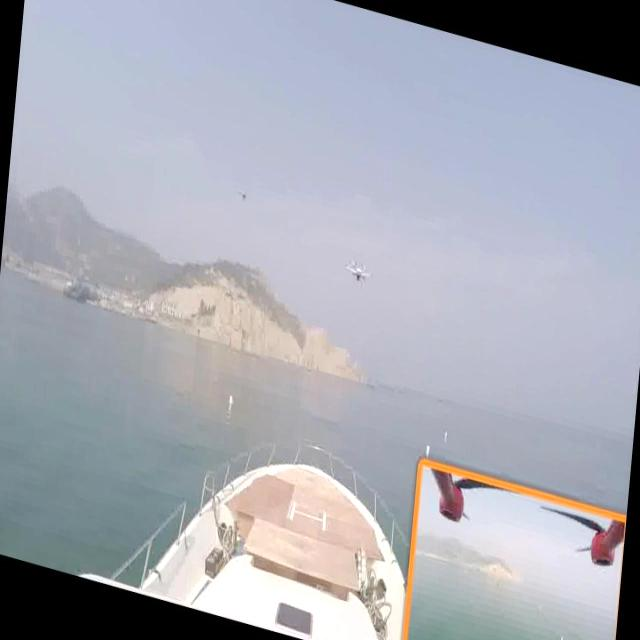drone: (339, 247, 377, 292)
